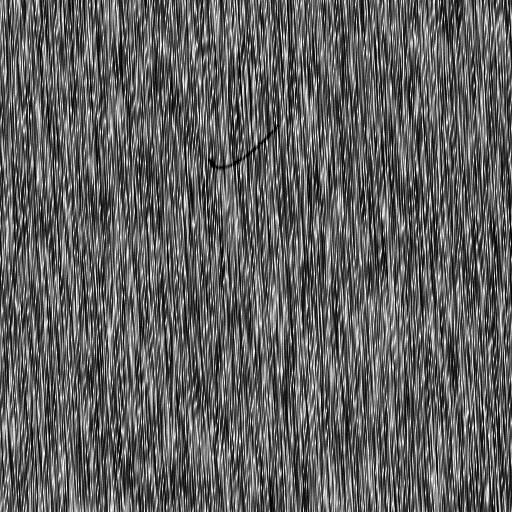DefectTypeC: (210, 123, 278, 172)
